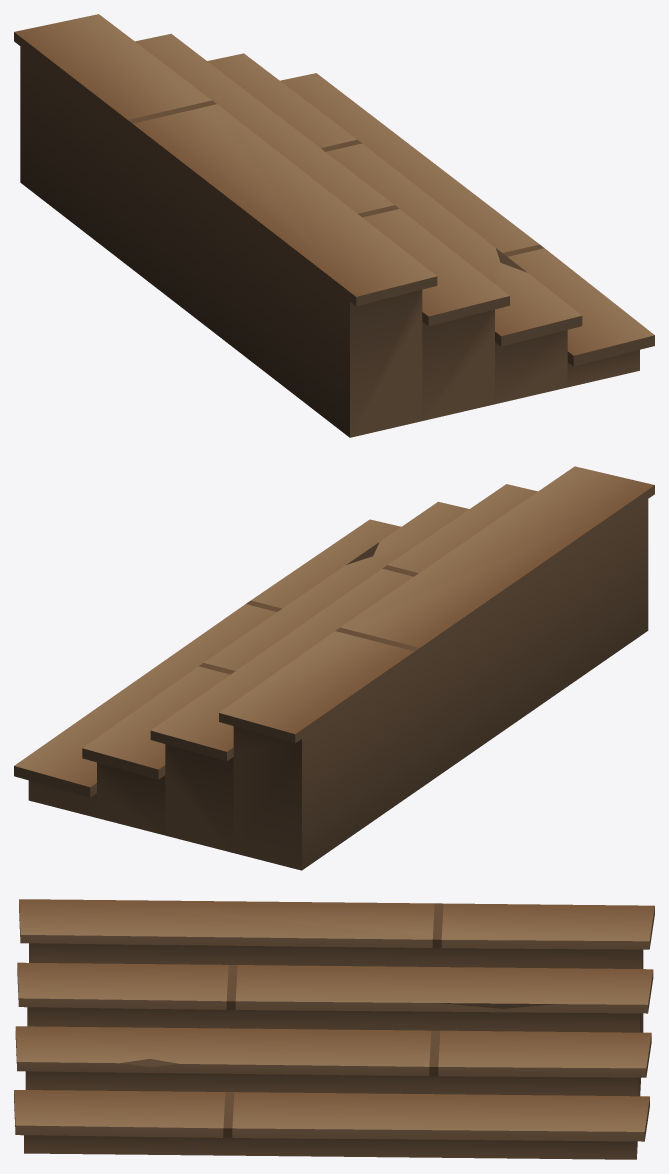
Rendered from cutepack2023brownstairs 1.fbx.
3 views of the same model, one above another, from view 1: azimuth 30°, elevation 25°; view 2: azimuth 150°, elevation 25°; view 3: azimuth 270°, elevation 25° (orthographic). The views are drawn at different scales.
Visible parts, largest first — view 1: Cube.118; view 2: Cube.118; view 3: Cube.118.
Boxes of the visible parts, x1,y1,x2,y2 form: Cube.118: (14, 14, 654, 437); Cube.118: (14, 466, 654, 870); Cube.118: (14, 899, 654, 1159).
Bounding box in the file's own units: 200 × 89.38 × 400.
